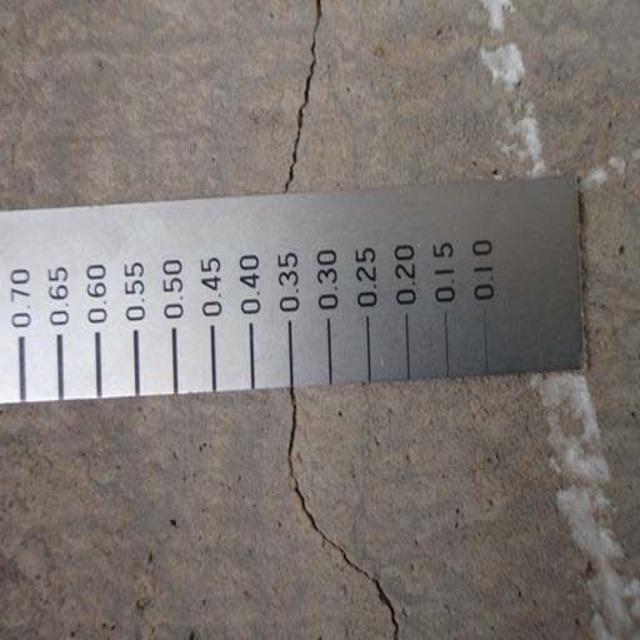crack: (270, 397, 413, 640), (250, 3, 356, 197)
